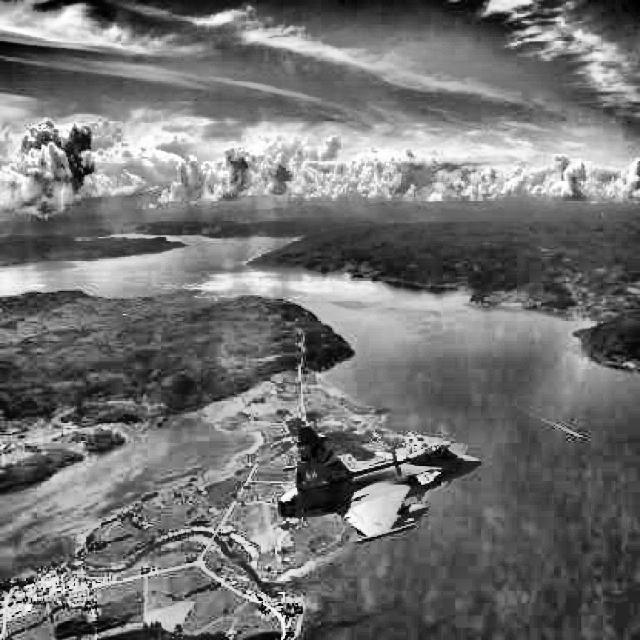JAS39: (278, 426, 490, 545)
